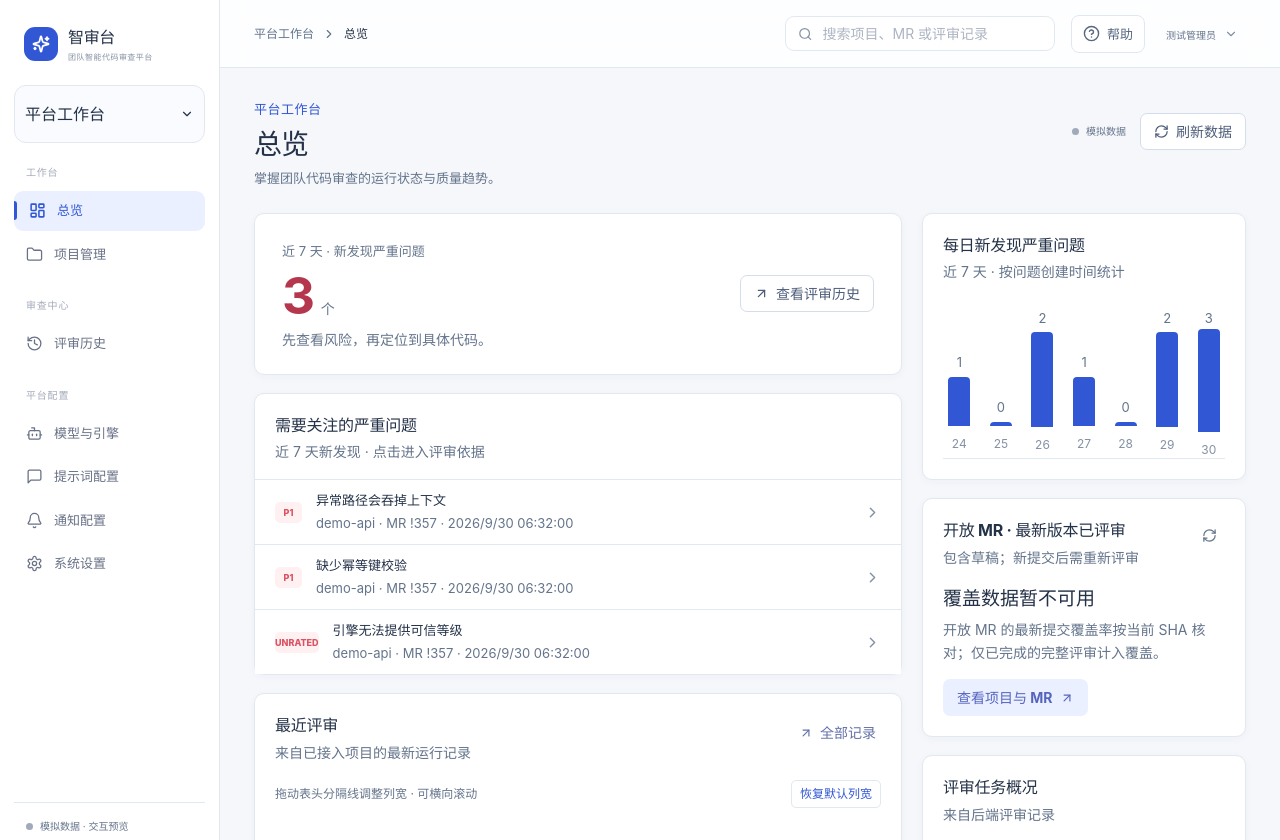
it: opens the MR list advertised by a favorite project entry
Click the button "项目管理". click: (110, 254)
box: [14, 234, 205, 274]
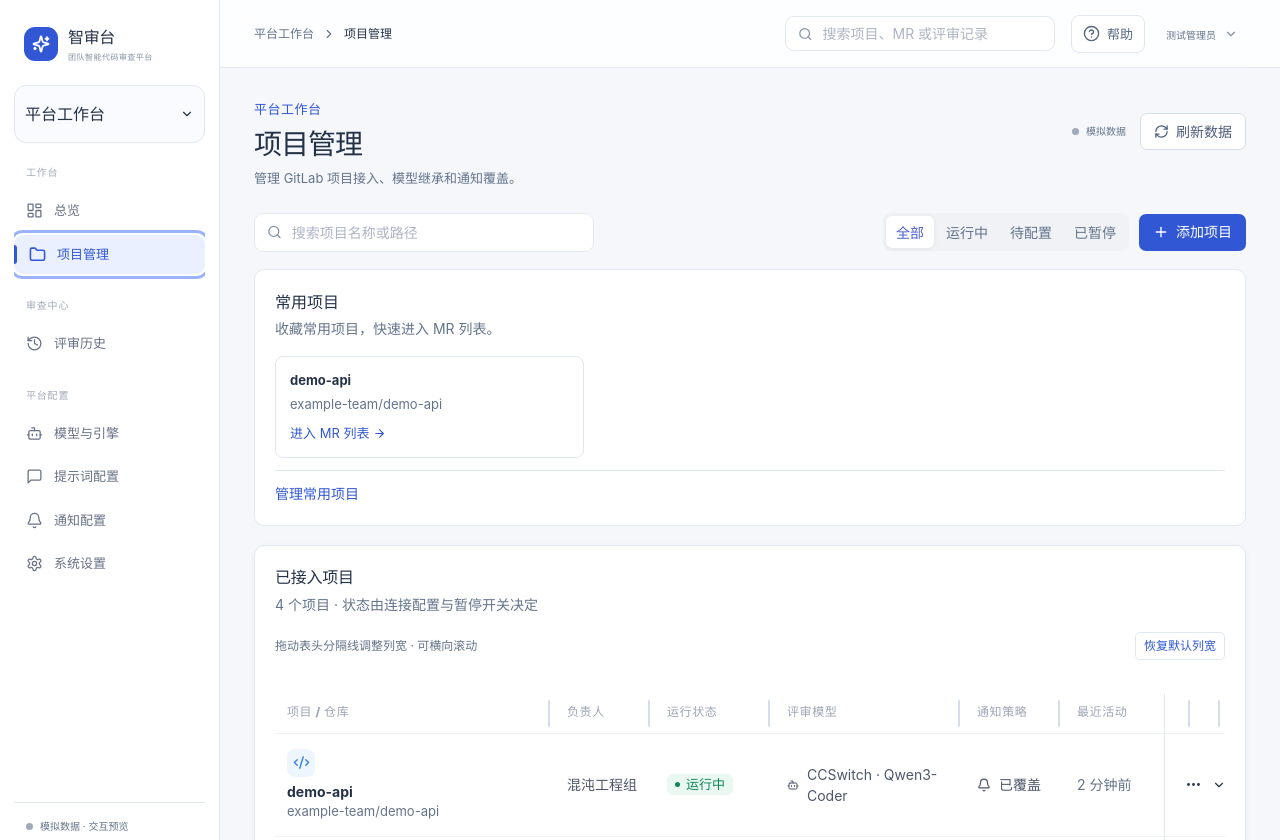
Click the button with aria-label "进入常用项目 demo-api". click: (430, 407)
box: [275, 356, 584, 458]
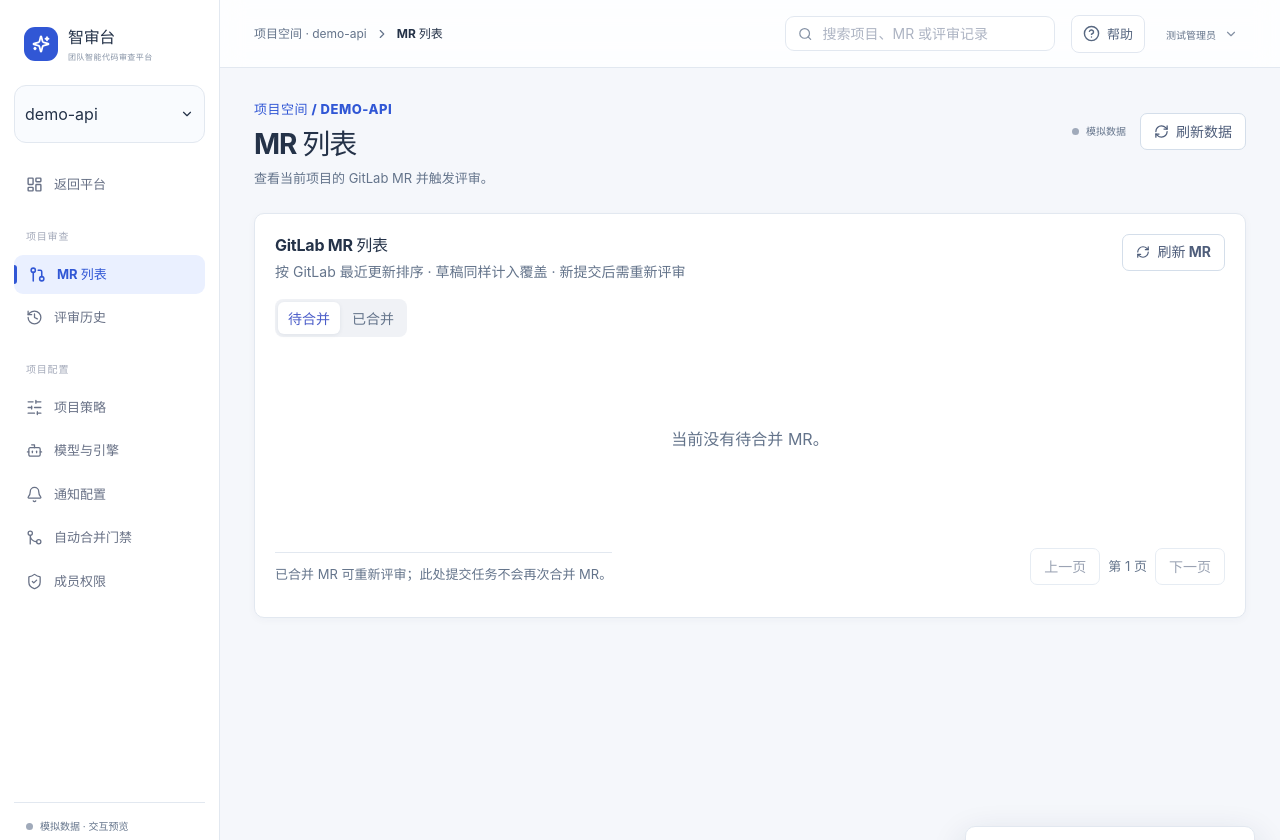
Expected: the heading "MR 列表" is shown, [254, 126, 356, 160]
